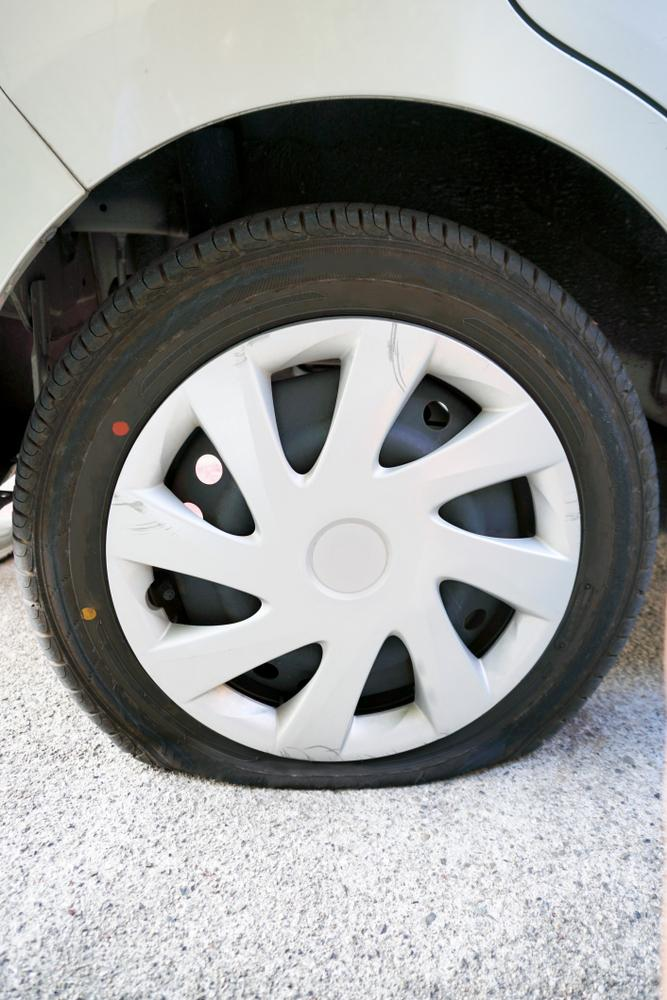tire flat: (8, 201, 664, 792)
